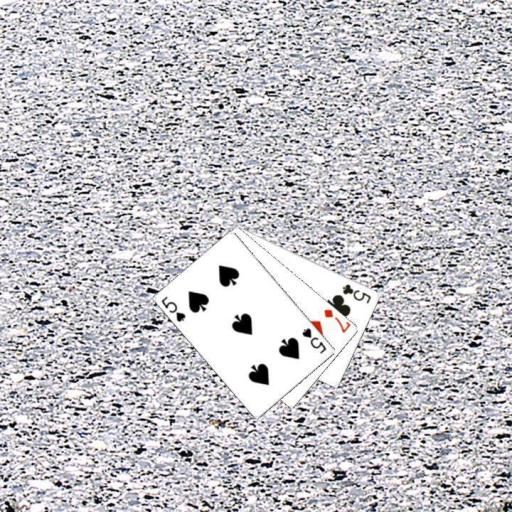card-corner: (299, 324, 328, 355), (159, 293, 187, 324), (321, 306, 351, 334), (340, 281, 373, 305)
